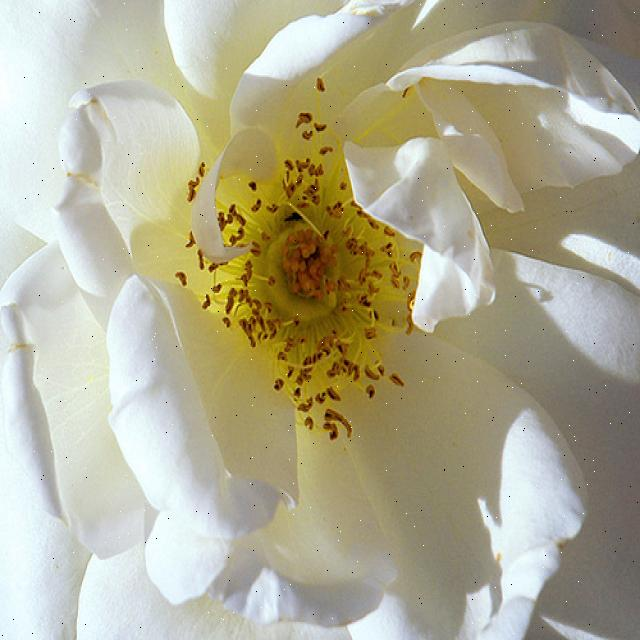Bloomed: (3, 1, 636, 634)
